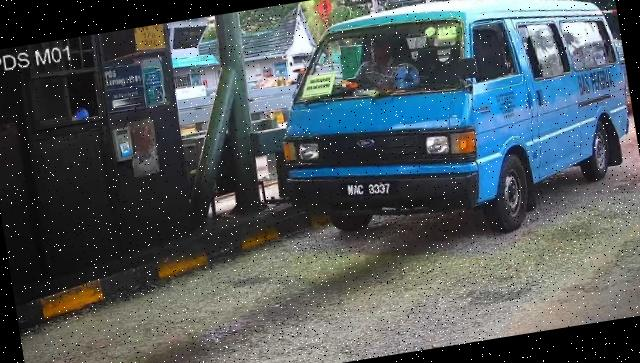License_Plate: (341, 174, 402, 208)
van: (263, 1, 640, 265)
